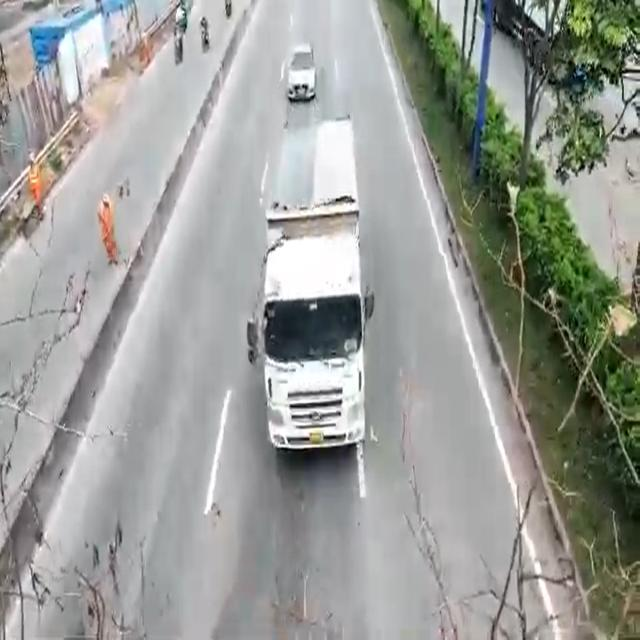car: (287, 40, 314, 103)
truck: (265, 121, 363, 463)
